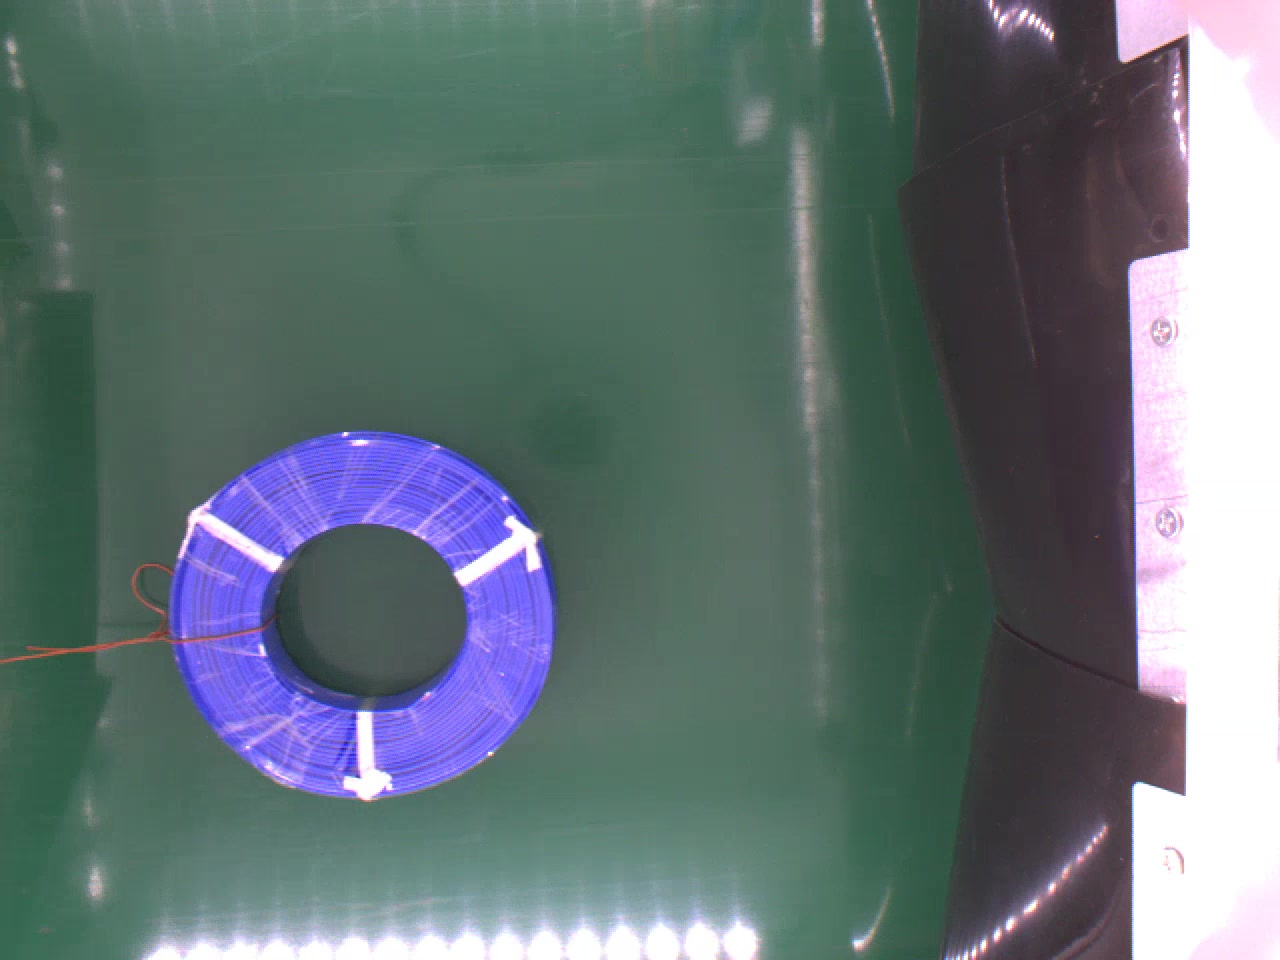blue: (161, 422, 561, 808)
